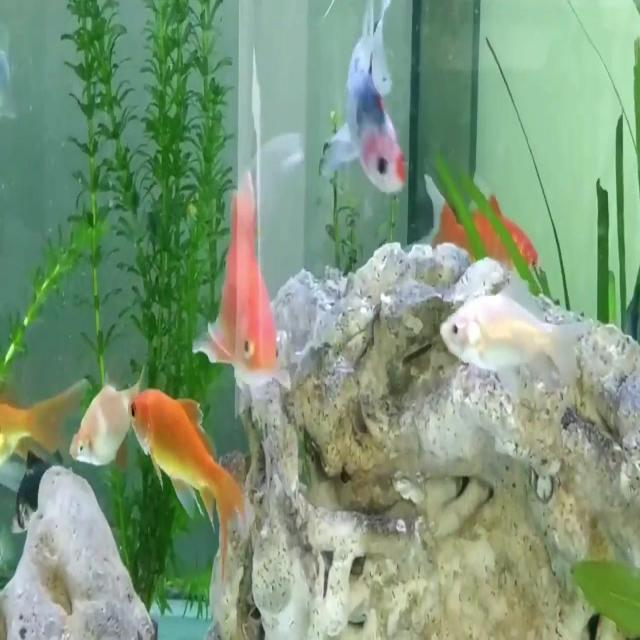GoldFish: (183, 157, 296, 424), (121, 373, 251, 589), (426, 266, 592, 418)
